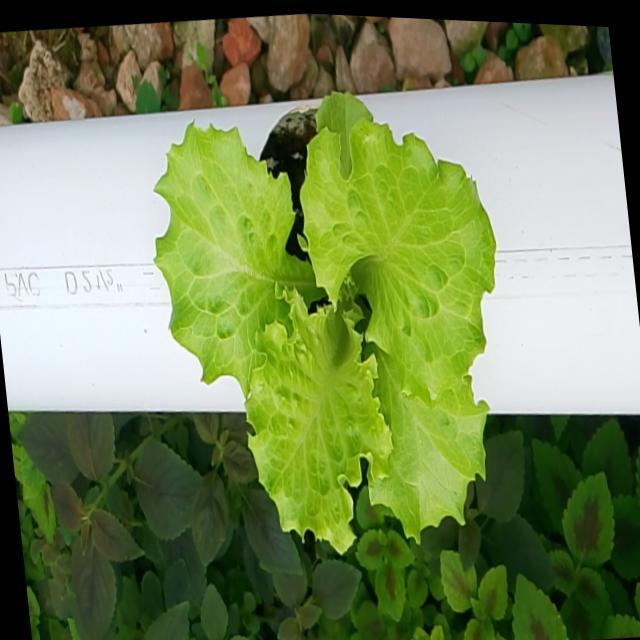Baby: (159, 105, 496, 560)
